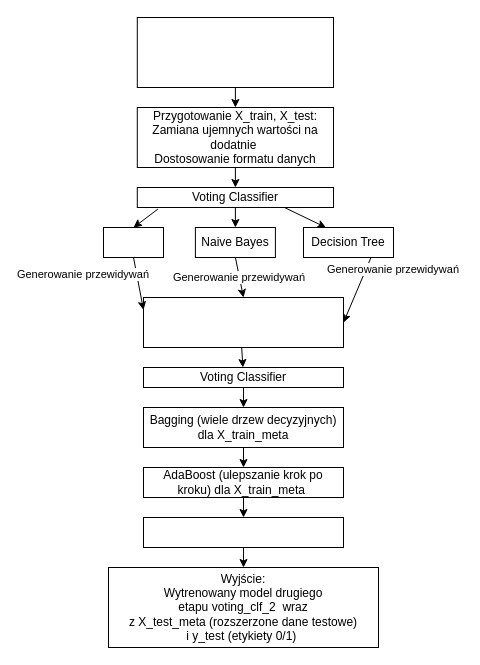
Some shapes in this 480 by 665 pixel diagram are drawn without their labels. The centre of each missing label's shape, as x and y in pixels:
"SVM" belongs at (133,242).
"Trening voting_clf_2 na rozszerzonych danych" belongs at (243,532).
"Tworzenie X_train_meta, X_test_meta: Oryginalne dane + przewidywania" belongs at (243,322).
"Wejście: Dane treningowe: X_train, y_train Dane testowe: (X_test, y_test)" belongs at (235,52).
